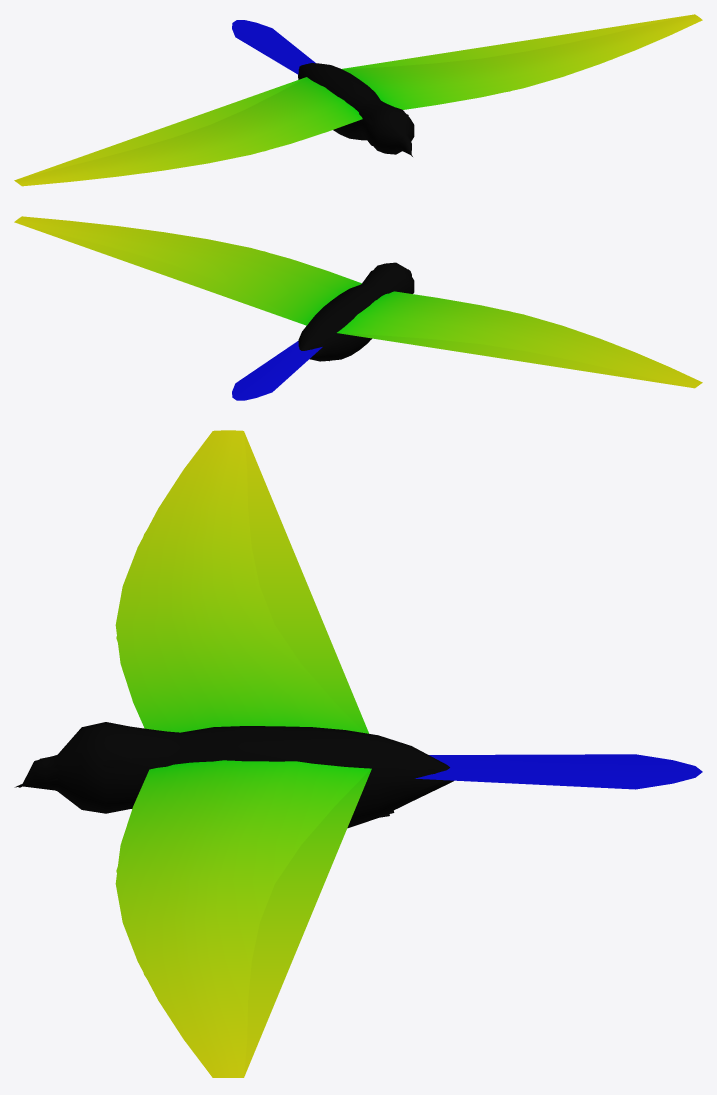
Rendered from kestrel.glb.
3 renders of one model, top to bottom at view 1: azimuth 30°, elevation 25°; view 2: azimuth 150°, elevation 25°; view 3: azimuth 270°, elevation 25°, orthographic. The views are drawn at different scales.
Visible parts, largest first — view 1: fly0, fly2, fly1; view 2: fly0, fly2, fly1; view 3: fly0, fly2, fly1.
Part boxes in pixels (box(x1,y1,x2,y2)): fly0: box(14, 14, 702, 186); fly2: box(16, 14, 692, 179); fly1: box(15, 41, 612, 185); fly0: box(14, 216, 702, 400); fly2: box(17, 223, 693, 388); fly1: box(126, 251, 700, 386); fly0: box(20, 430, 702, 1077); fly2: box(14, 431, 371, 1077); fly1: box(18, 501, 480, 1077).
Size of the model in its own units: 0.75 by 0.0569 by 0.3374.
